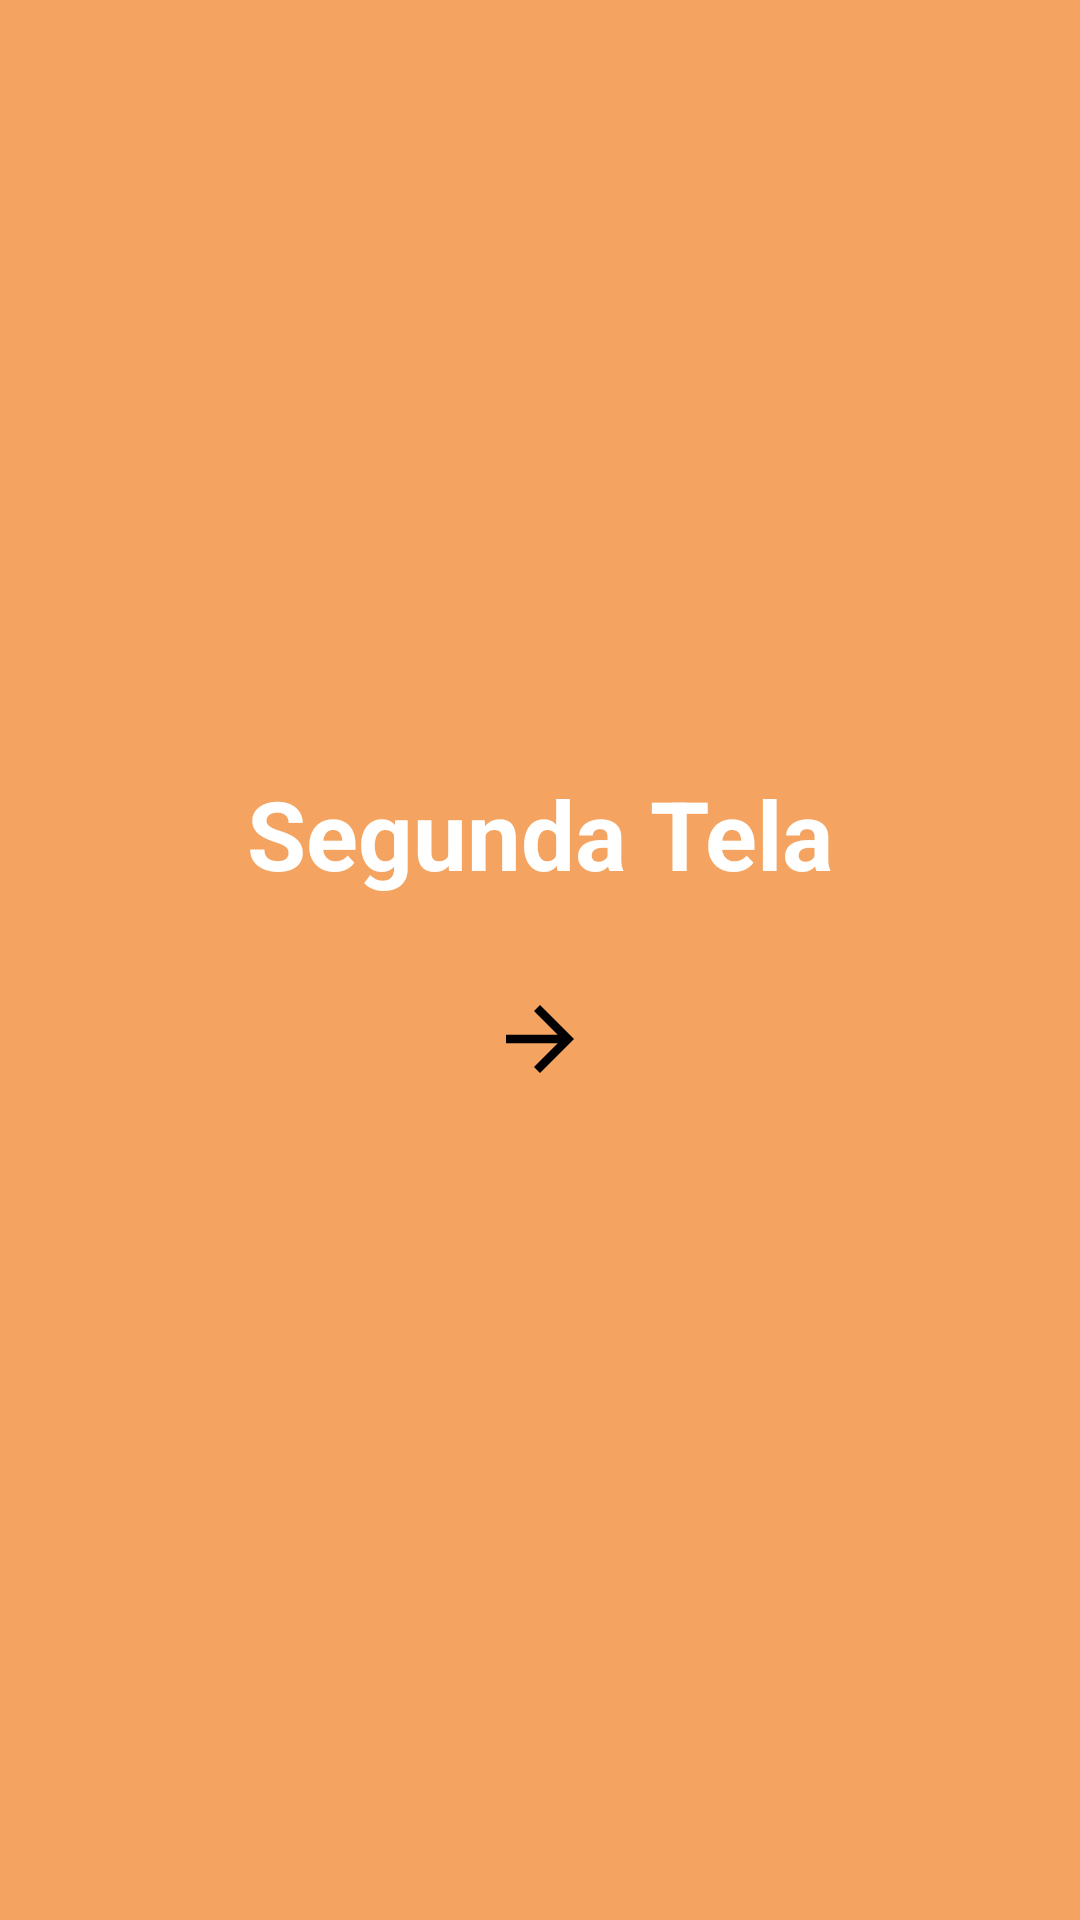

Icon click points for this 1080px x 1920px phone screenshot, format point (x, y):
navegar: point (540, 1039)
